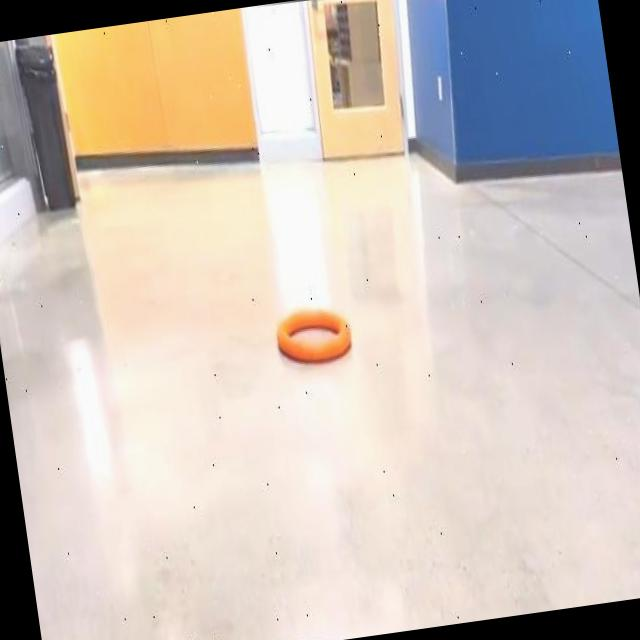note: (277, 309, 352, 362)
